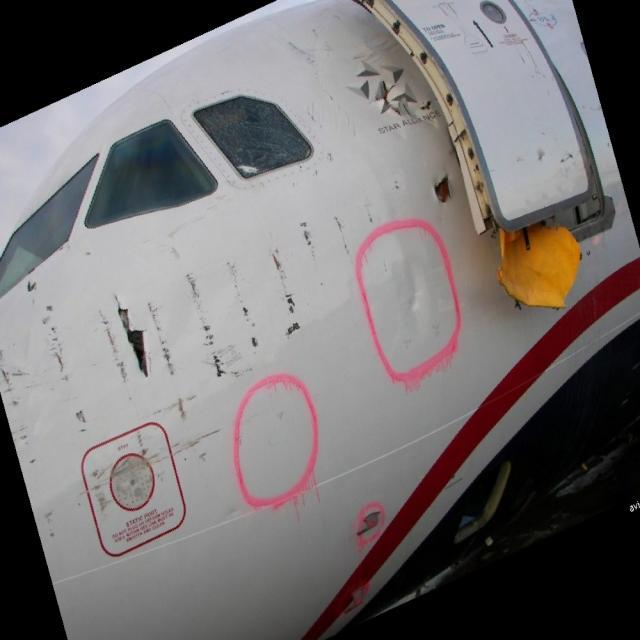crack: (114, 300, 153, 380), (432, 173, 455, 207)
dent: (395, 254, 430, 331)
